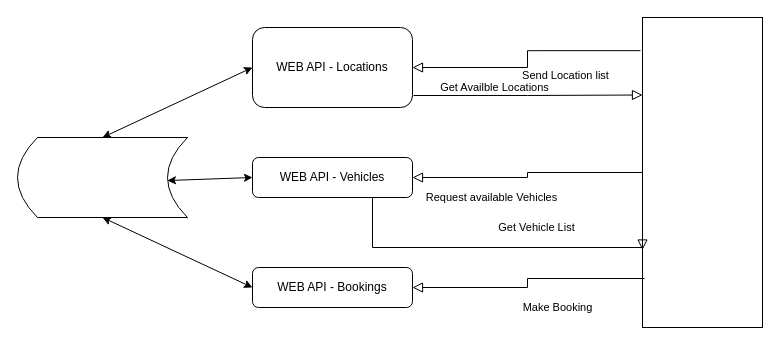
The diagram is 780 pixels wide and 345 high, and some of its shapes have lost their labels. Each missing label, with the centre of its shape:
"Data Storage" belongs at point (102, 177).
"Web Client" belongs at point (702, 172).
